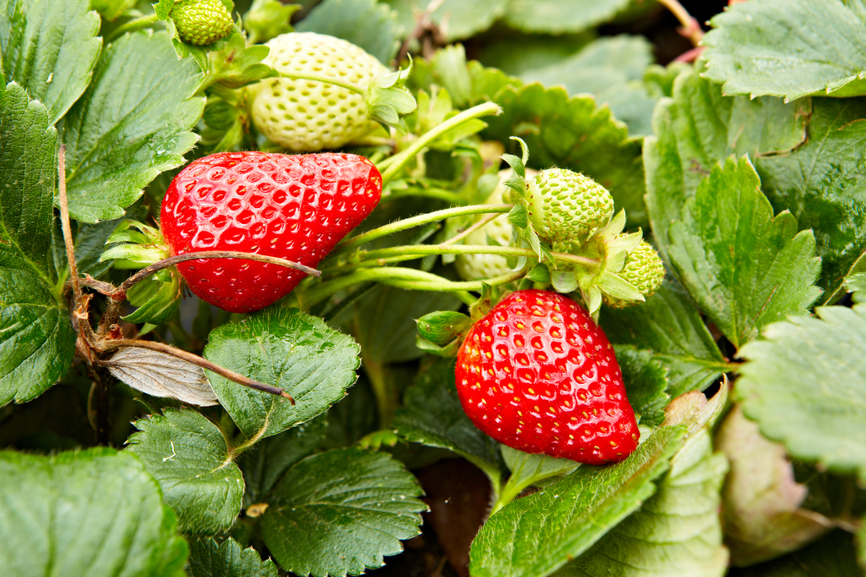ripe_strawberry: (157, 149, 386, 318), (453, 287, 642, 468)
unripe_strawberry: (243, 30, 400, 152), (451, 166, 549, 293), (525, 165, 617, 243), (588, 228, 667, 310), (167, 1, 238, 49)
